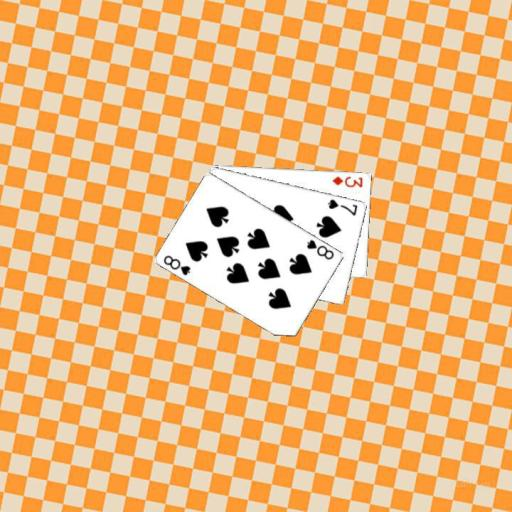3D: (329, 173, 364, 188)
7S: (325, 195, 359, 217)
8S: (160, 252, 193, 277), (304, 236, 336, 261)
